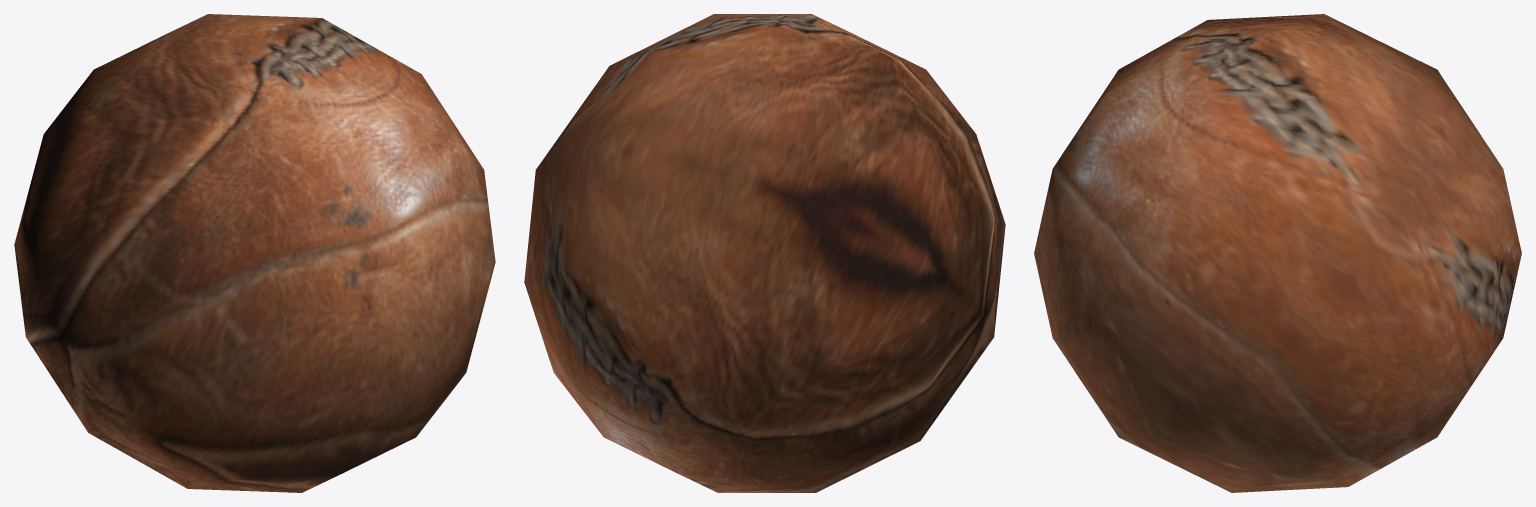
The model's file is balon_viejo_001.FBX.
The picture shows the model from 3 angles, left to right: view 1: azimuth 30°, elevation 25°; view 2: azimuth 150°, elevation 25°; view 3: azimuth 270°, elevation 25°; orthographic projection.
Visible parts, largest first — view 1: balon_viejo_001; view 2: balon_viejo_001; view 3: balon_viejo_001.
Part boxes in pixels (x1,y1,x2,y2): balon_viejo_001: [14, 14, 495, 492]; balon_viejo_001: [524, 14, 1005, 492]; balon_viejo_001: [1034, 14, 1521, 492].
Bounding box in the file's own units: 26.98 × 26.98 × 26.98.
